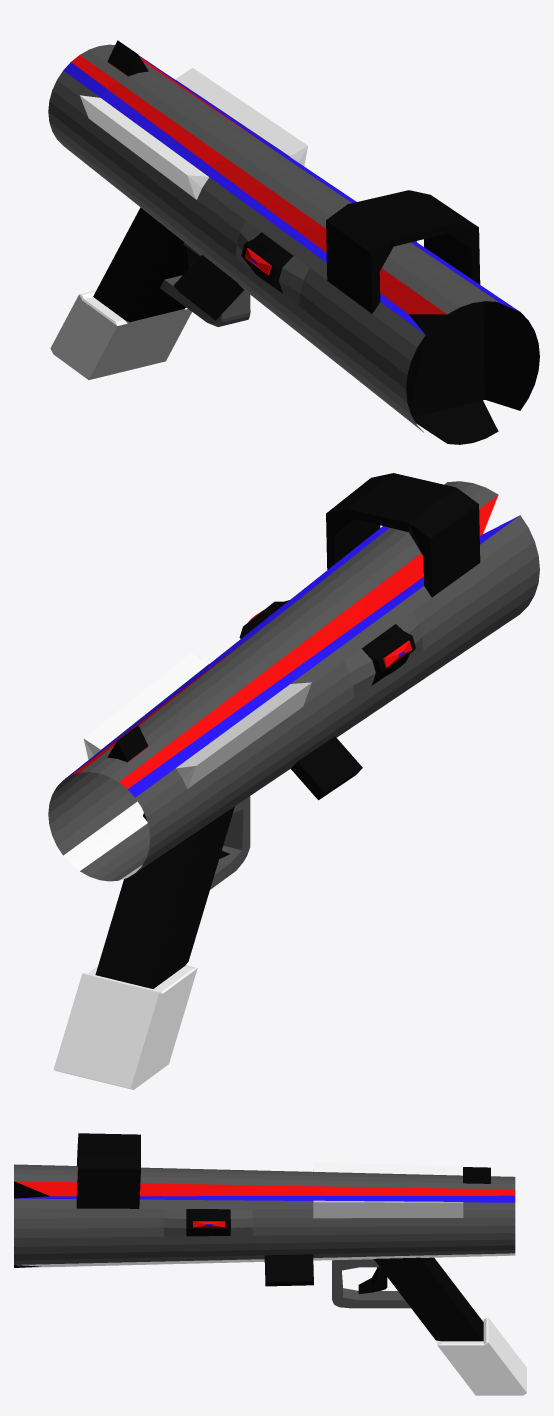
File: Gun.fbx
3 renders of one model, top to bottom at view 1: azimuth 30°, elevation 25°; view 2: azimuth 150°, elevation 25°; view 3: azimuth 270°, elevation 25°, orthographic. The views are drawn at different scales.
Visible parts, largest first — view 1: Gun; view 2: Gun; view 3: Gun.
Boxes of the visible parts, <box> form: Gun: <box>48,40,539,444</box>; Gun: <box>48,473,539,1089</box>; Gun: <box>14,1133,526,1395</box>.
Bounding box in the file's own units: 148 × 336 × 643.
Materials: 1 (1 with a texture image).
